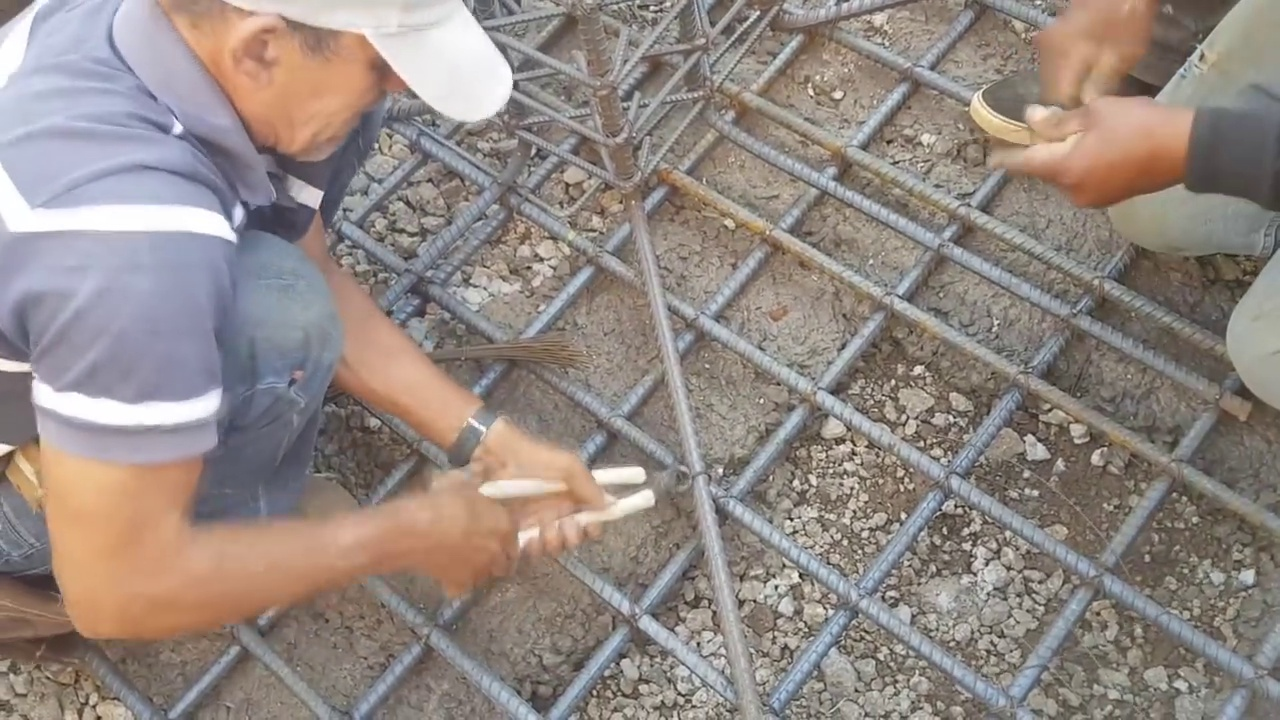helmet-off: (161, 8, 470, 184)
person: (65, 0, 565, 699), (942, 0, 1280, 386)
